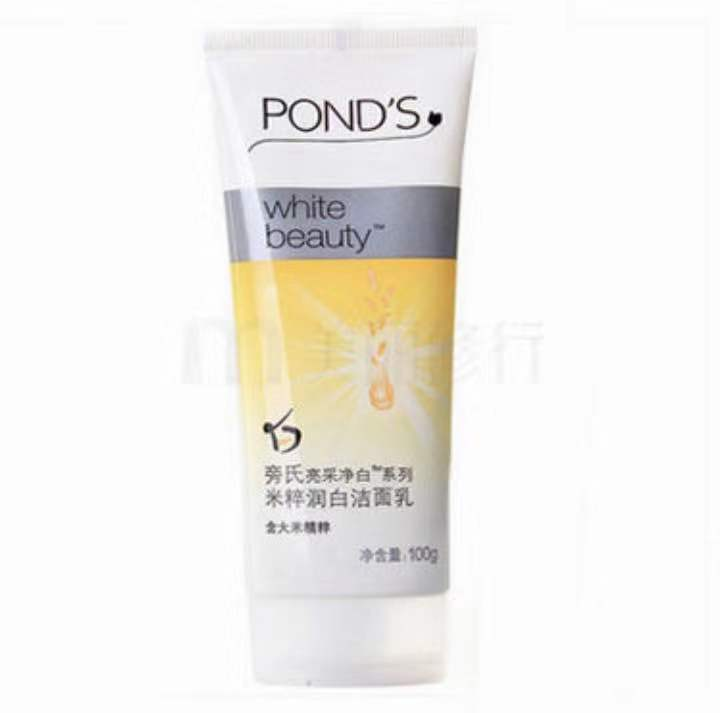cosmetic: (204, 32, 477, 688)
